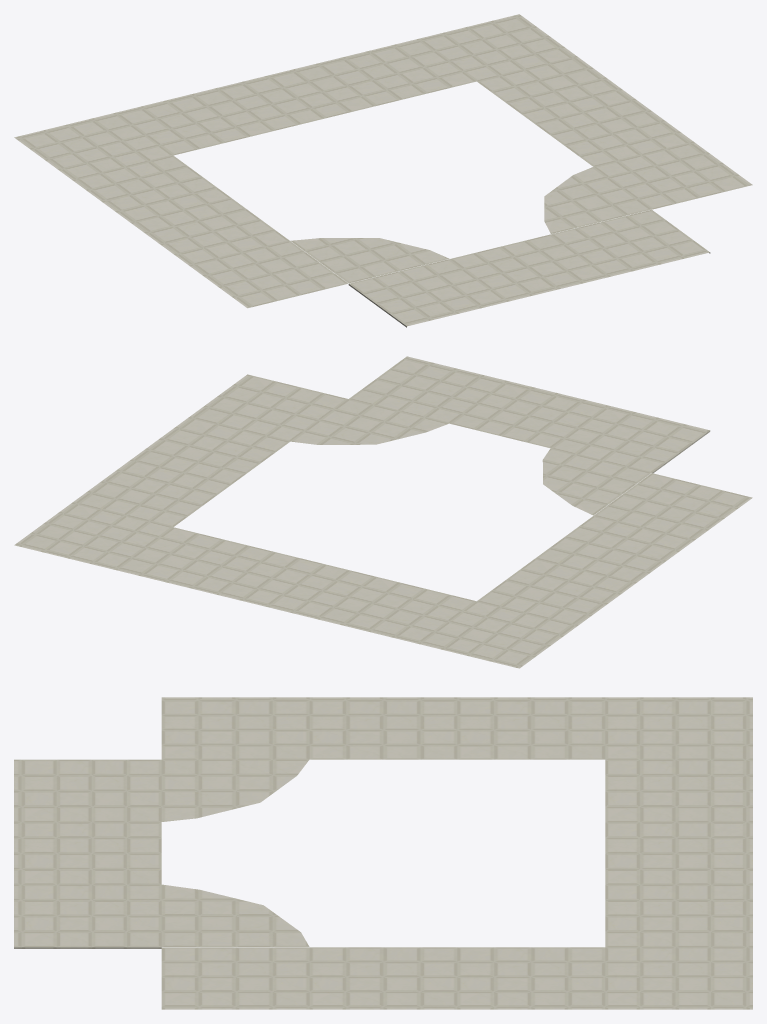
Rendered from Homeworld_Interior_Fd_Room_Floor_01Q_Vo.fbx.
The picture shows the model from 3 angles, top to bottom: view 1: azimuth 30°, elevation 25°; view 2: azimuth 150°, elevation 25°; view 3: azimuth 270°, elevation 25°; orthographic projection. The views are drawn at different scales.
Parts seen in each view (by area): view 1: Homeworld_Interior_Fd_Room_Floor_01Q_Vo; view 2: Homeworld_Interior_Fd_Room_Floor_01Q_Vo; view 3: Homeworld_Interior_Fd_Room_Floor_01Q_Vo.
Part boxes in pixels (<box>): Homeworld_Interior_Fd_Room_Floor_01Q_Vo: <box>14,14,752,327</box>; Homeworld_Interior_Fd_Room_Floor_01Q_Vo: <box>14,356,752,668</box>; Homeworld_Interior_Fd_Room_Floor_01Q_Vo: <box>14,697,752,1009</box>.
Bounding box in the file's own units: 25 × 0.0755 × 25.
